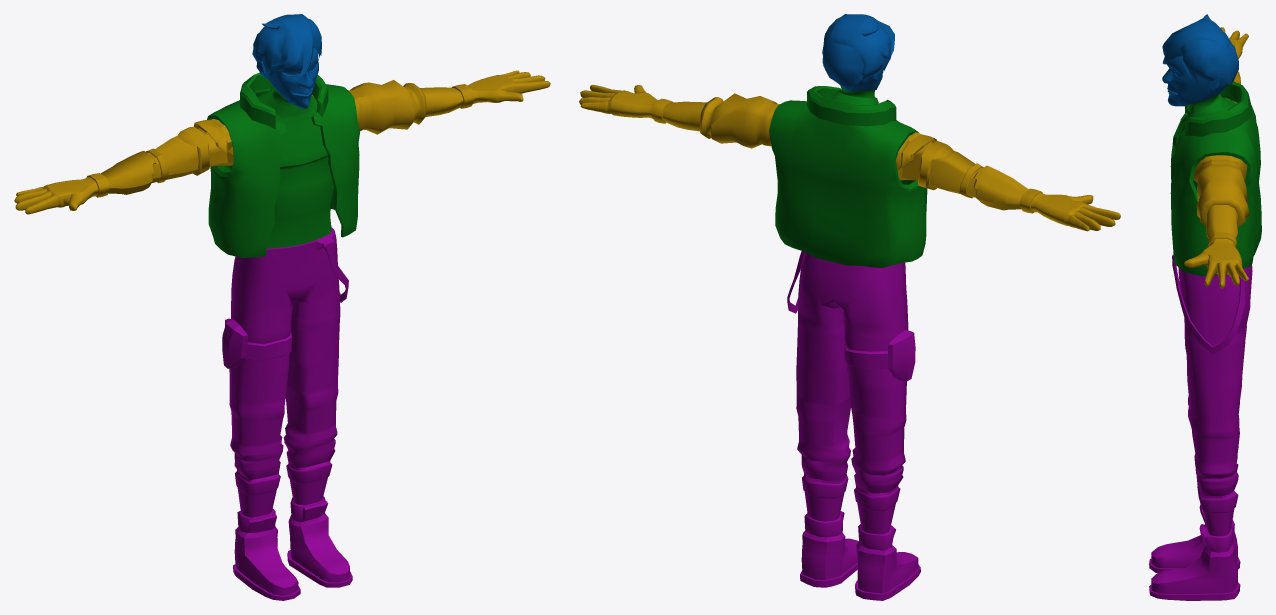
The model's file is Shreddy_MESH.fbx.
The picture shows the model from 3 angles, left to right: view 1: azimuth 30°, elevation 25°; view 2: azimuth 150°, elevation 25°; view 3: azimuth 270°, elevation 25°; orthographic projection.
Visible parts, largest first — view 1: Shreddy_Mesh; view 2: Shreddy_Mesh; view 3: Shreddy_Mesh.
Boxes of the visible parts, x1,y1,x2,y2 form: Shreddy_Mesh: (14, 14, 550, 600); Shreddy_Mesh: (579, 14, 1120, 600); Shreddy_Mesh: (1149, 14, 1261, 600).
Bounding box in the file's own units: 1.83 × 1.84 × 0.3386.
